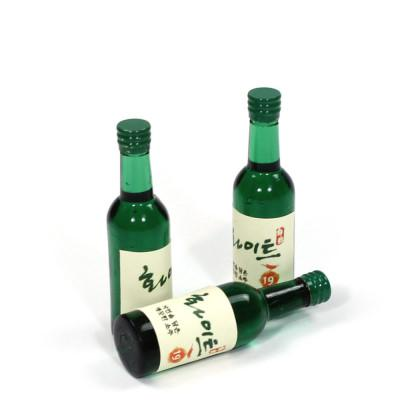soju: (103, 85, 339, 378)
